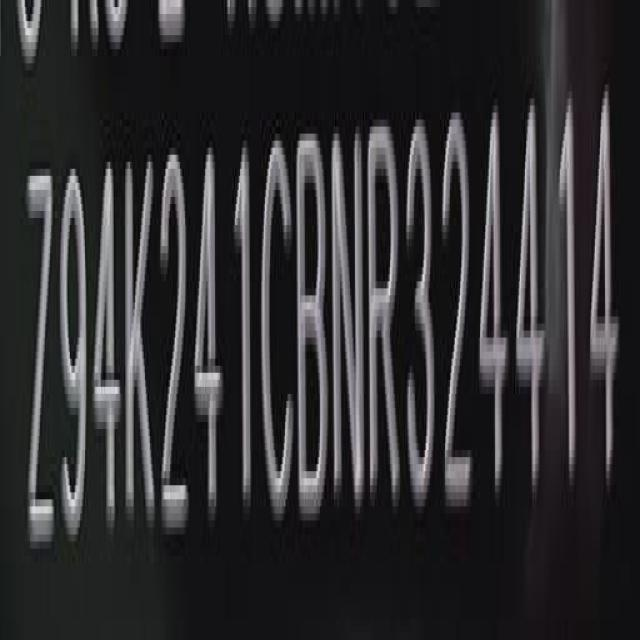1: (552, 85, 578, 508), (233, 140, 251, 531)
2: (160, 143, 192, 539), (444, 107, 474, 520)
3: (408, 112, 437, 516)
4: (589, 76, 624, 498), (514, 91, 547, 511), (477, 100, 508, 516), (197, 142, 226, 534), (94, 158, 122, 545)
9: (61, 167, 89, 555)
B: (298, 126, 330, 518)
C: (260, 129, 294, 521)
K: (126, 147, 160, 540)
N: (332, 119, 365, 519)
R: (368, 115, 402, 512)
Z: (22, 162, 56, 562)
